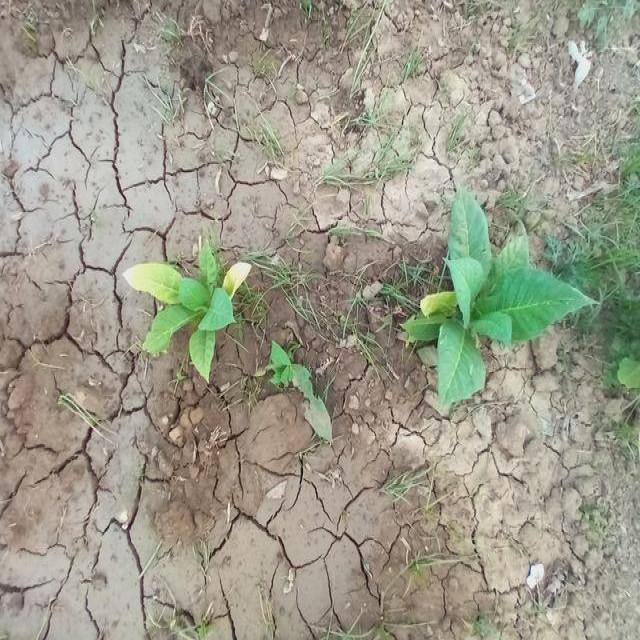crop: (403, 197, 584, 416), (117, 231, 260, 381)
